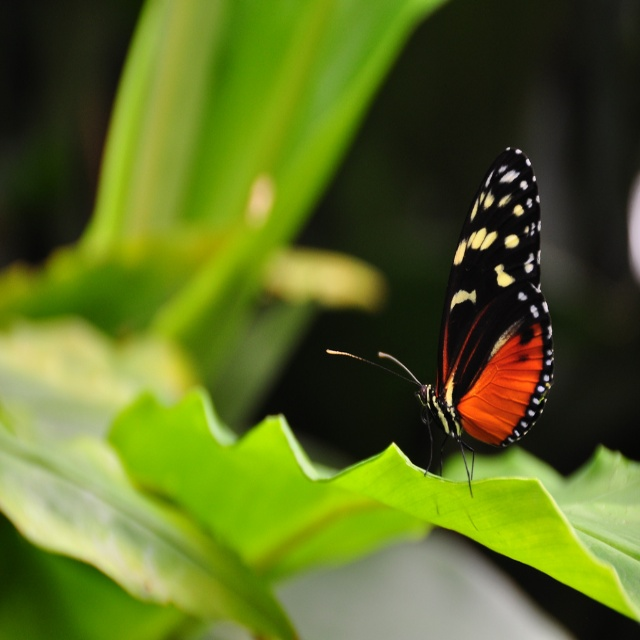Butterfly: (329, 144, 559, 497)
